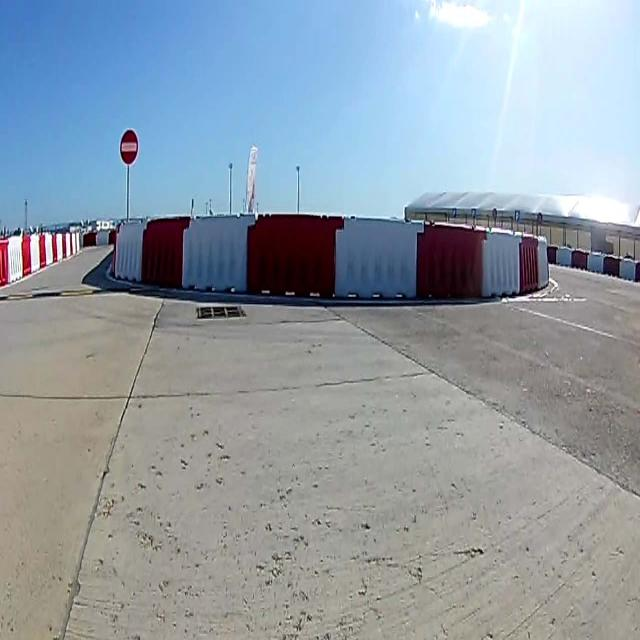girisyok: (120, 128, 138, 165)
